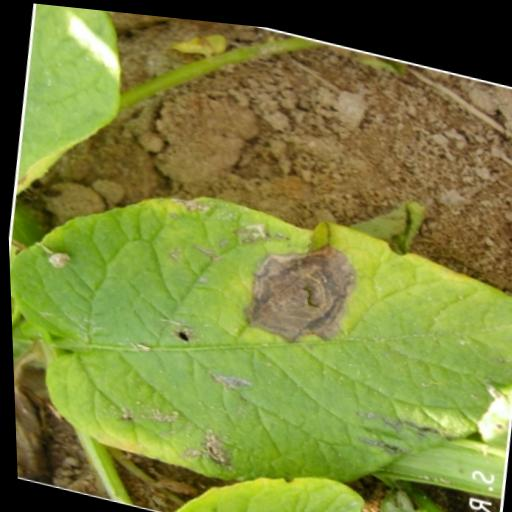Early Blight: (4, 146, 512, 512)
